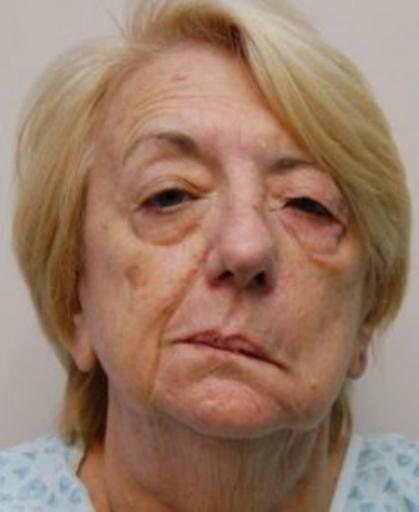left_eye: (279, 195, 337, 223)
left_lip_corner: (269, 355, 291, 376)
right_eye: (140, 187, 203, 215)
right_lip_corner: (166, 331, 189, 356)
